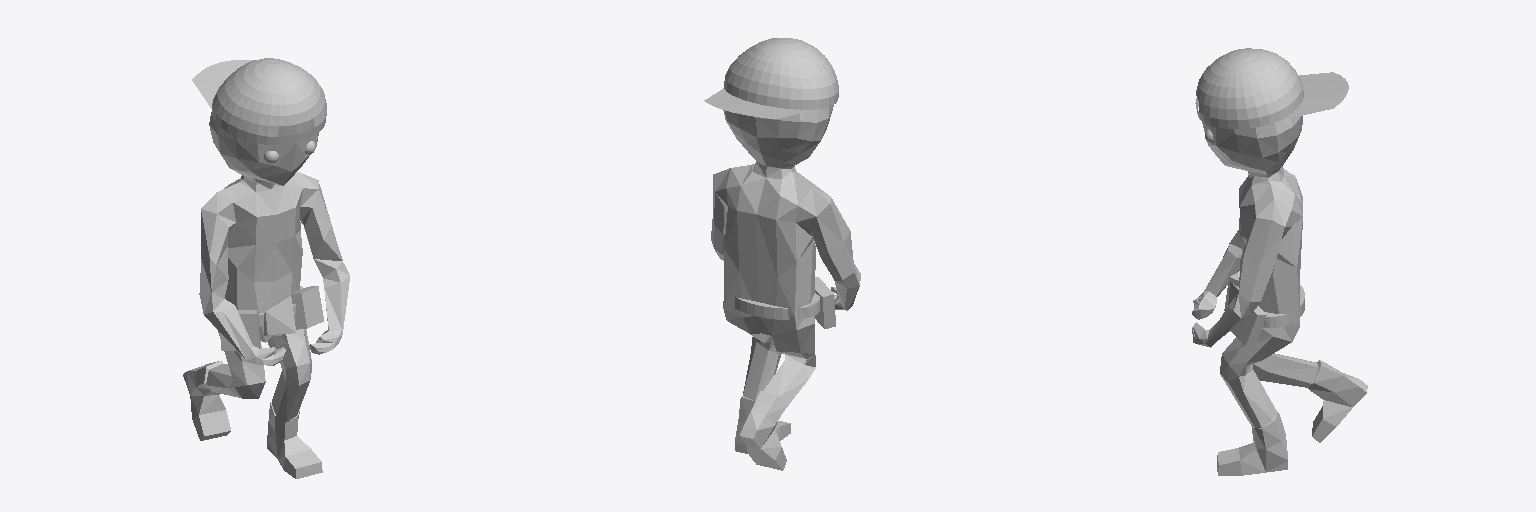
Rendered from Main_Character_TireRepair_2.obj.
3 views of the same model, side by side, from view 1: azimuth 30°, elevation 25°; view 2: azimuth 150°, elevation 25°; view 3: azimuth 270°, elevation 25° (orthographic).
Visible parts, largest first — view 1: Main_Character_Test.003_Main_Character_Test.004; view 2: Main_Character_Test.003_Main_Character_Test.004; view 3: Main_Character_Test.003_Main_Character_Test.004.
Boxes of the visible parts, <box> form: Main_Character_Test.003_Main_Character_Test.004: <box>183,58,349,478</box>; Main_Character_Test.003_Main_Character_Test.004: <box>704,38,860,470</box>; Main_Character_Test.003_Main_Character_Test.004: <box>1192,48,1367,475</box>.
Size of the model in its own units: 1.41 by 3.79 by 1.49.